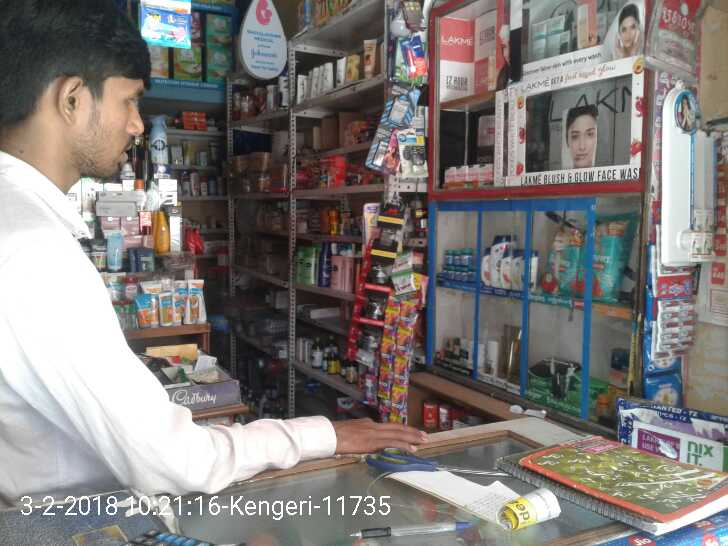beauty: (480, 228, 511, 289), (508, 247, 537, 290)
pharmacy: (581, 211, 624, 299), (540, 221, 579, 297), (441, 237, 476, 281)
